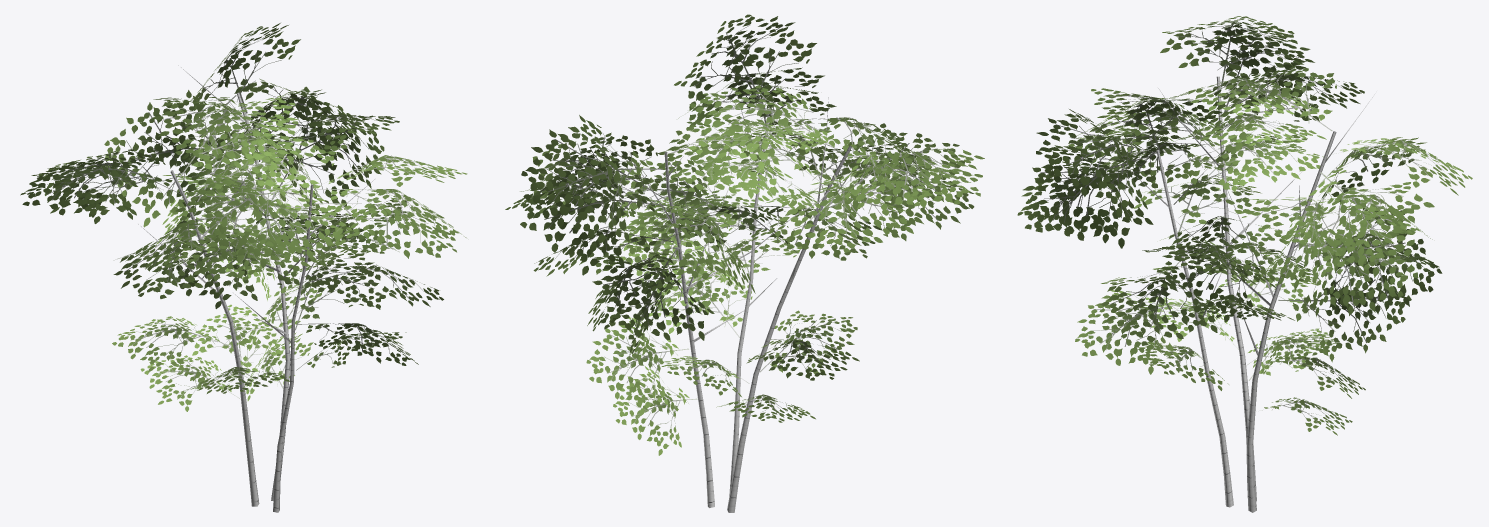
Rendered from tree_Shrub_Birch_LOD0.fbx.
3 views of the same model, side by side, from view 1: azimuth 30°, elevation 25°; view 2: azimuth 150°, elevation 25°; view 3: azimuth 270°, elevation 25° (orthographic).
Parts seen in each view (by area): view 1: Shrub_Birch_LOD0; view 2: Shrub_Birch_LOD0; view 3: Shrub_Birch_LOD0.
Boxes of the visible parts, <box> form: Shrub_Birch_LOD0: <box>20,23,467,512</box>; Shrub_Birch_LOD0: <box>505,14,984,512</box>; Shrub_Birch_LOD0: <box>1017,16,1472,512</box>.
Size of the model in its own units: 634 by 615 by 600.
